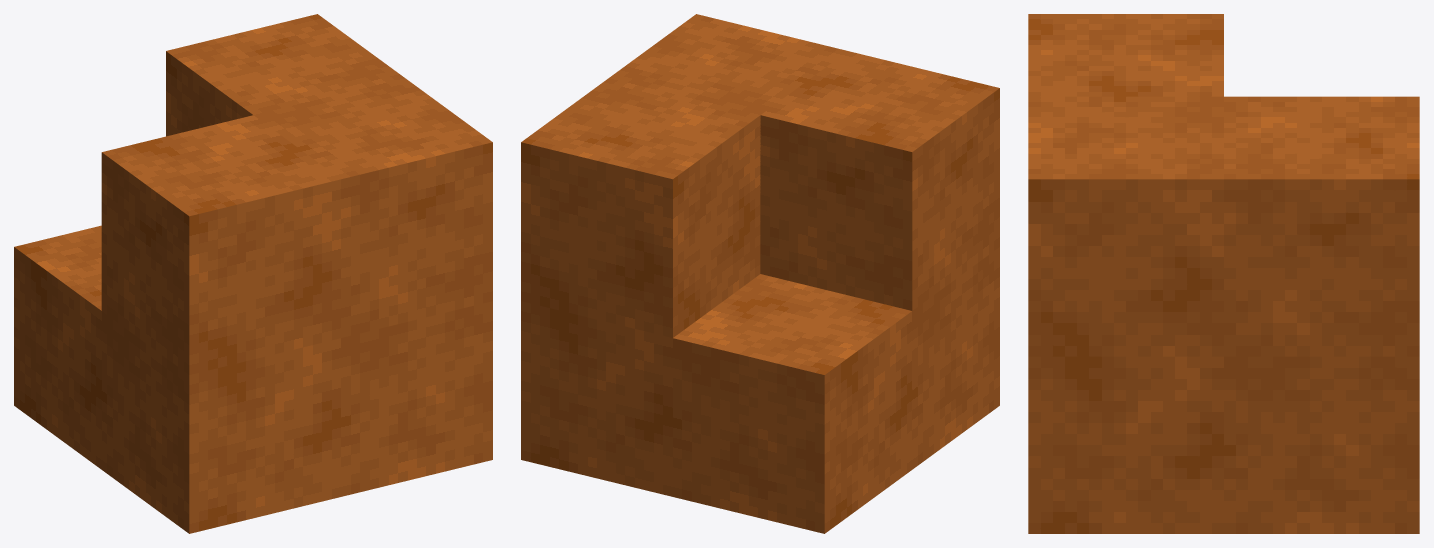
Rendered from block_smooth_red_sandstone_stairs_inner.gltf.
The picture shows the model from 3 angles, left to right: view 1: azimuth 30°, elevation 25°; view 2: azimuth 150°, elevation 25°; view 3: azimuth 270°, elevation 25°; orthographic projection. The views are drawn at different scales.
Parts seen in each view (by area): view 1: cube (×3); view 2: cube (×3); view 3: cube (×3).
Part boxes in pixels (left/top/right/bottom): cube (×3): left=14, top=14, right=492, bottom=533; cube (×3): left=521, top=14, right=999, bottom=533; cube (×3): left=1028, top=14, right=1419, bottom=533.
Bounding box in the file's own units: 1 × 1 × 1.
1 material, 1 textured.
